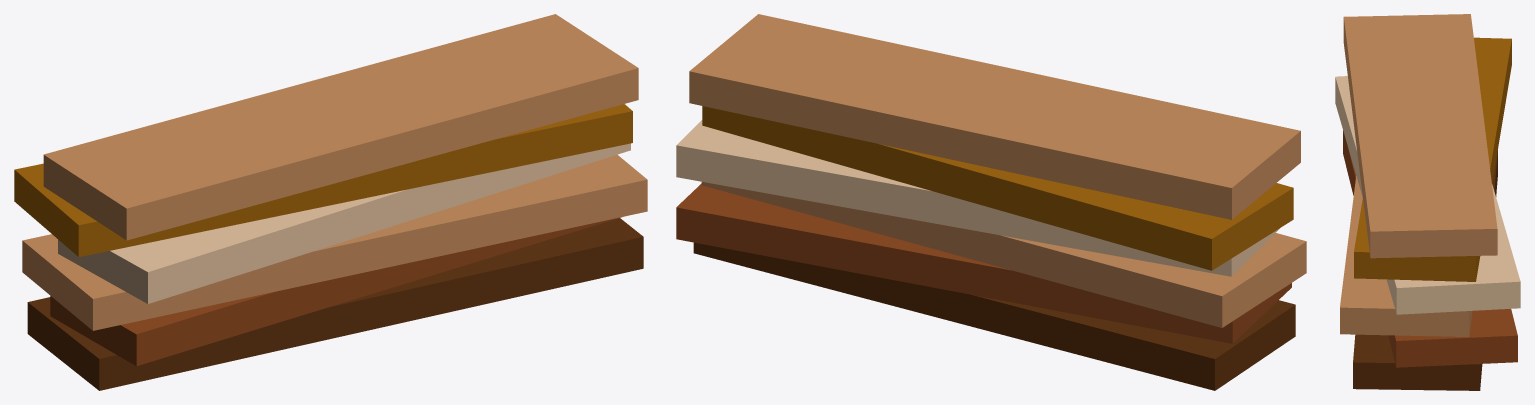
File: planks.fbx
3 views of the same model, side by side, from view 1: azimuth 30°, elevation 25°; view 2: azimuth 150°, elevation 25°; view 3: azimuth 270°, elevation 25° (orthographic). The views are drawn at different scales.
Parts seen in each view (by area): view 1: Planks; view 2: Planks; view 3: Planks.
Part boxes in pixels (x1,y1,x2,y2): Planks: (14,14,647,390); Planks: (676,14,1306,390); Planks: (1335,14,1520,390).
Size of the model in its own units: 2.19 by 0.72 by 0.7572.
